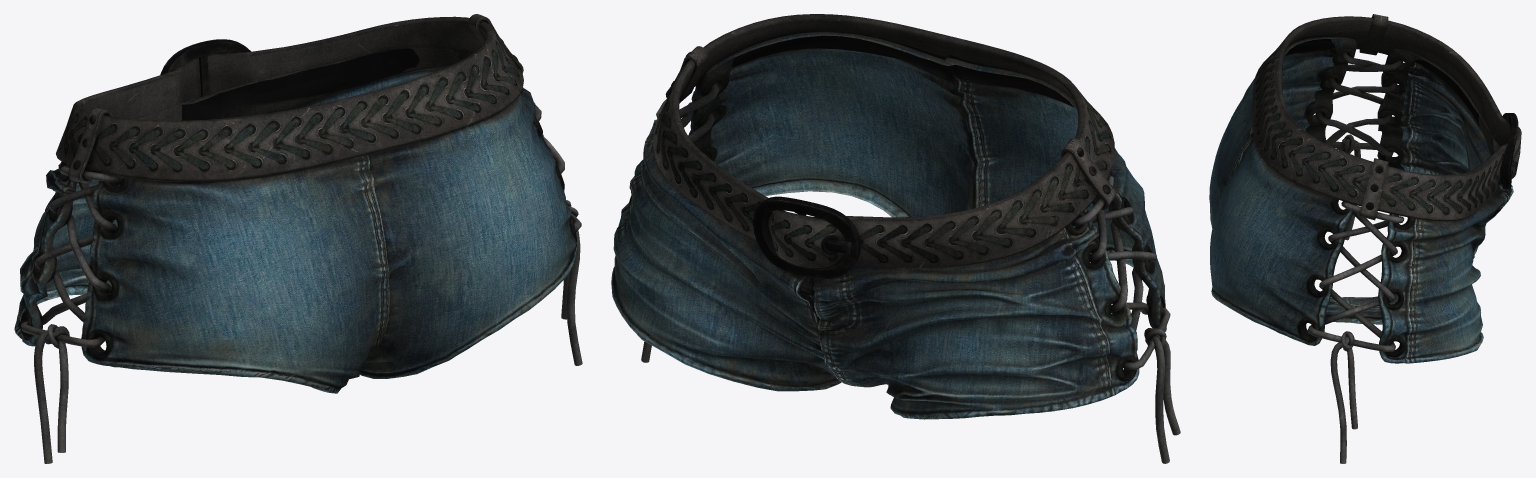
3 renders of one model, left to right at view 1: azimuth 30°, elevation 25°; view 2: azimuth 150°, elevation 25°; view 3: azimuth 270°, elevation 25°, orthographic. The views are drawn at different scales.
Visible parts, largest first — view 1: Object_2; view 2: Object_2; view 3: Object_2.
Part boxes in pixels (bbox=[...]): Object_2: bbox=[14, 14, 582, 463]; Object_2: bbox=[611, 14, 1180, 463]; Object_2: bbox=[1209, 14, 1521, 463].
Size of the model in its own units: 0.4567 by 0.2952 by 0.2922.
1 material, 1 textured.
